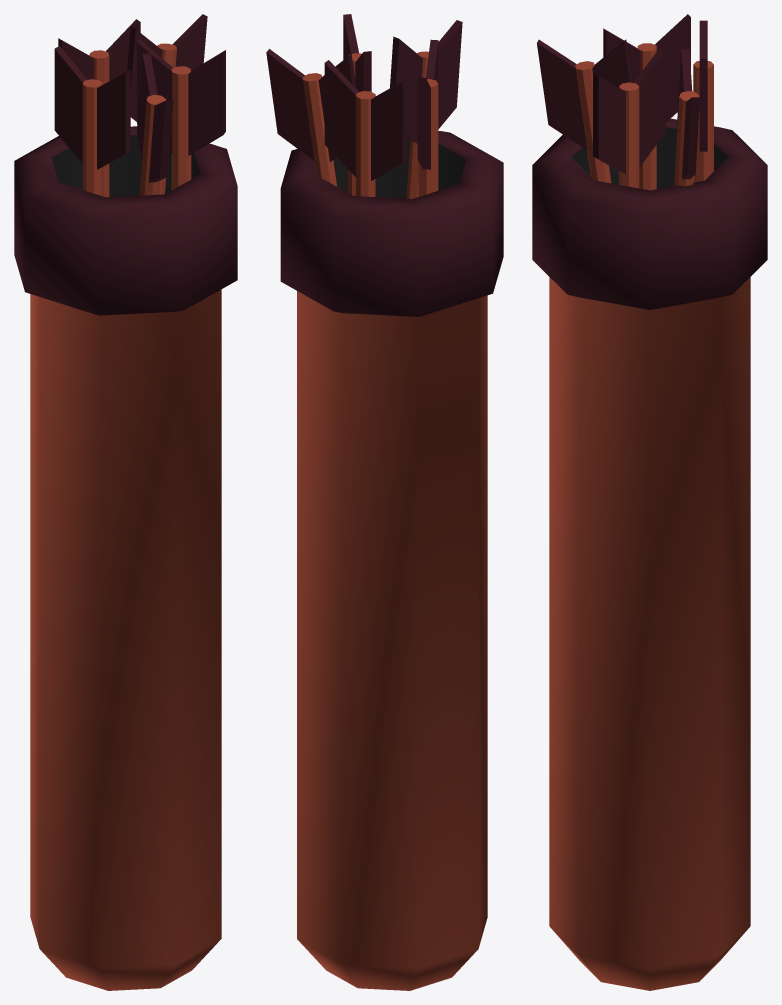
The model's file is PickupArrowEarth.dae.
3 renders of one model, left to right at view 1: azimuth 30°, elevation 25°; view 2: azimuth 150°, elevation 25°; view 3: azimuth 270°, elevation 25°, orthographic.
Parts seen in each view (by area): view 1: ArrowsPickupEarth; view 2: ArrowsPickupEarth; view 3: ArrowsPickupEarth.
Boxes of the visible parts, x1=… form: ArrowsPickupEarth: x1=14, y1=14, x2=237, y2=990; ArrowsPickupEarth: x1=266, y1=14, x2=503, y2=990; ArrowsPickupEarth: x1=532, y1=14, x2=767, y2=990.
Size of the model in its own units: 0.2351 by 0.2336 by 1.01.
